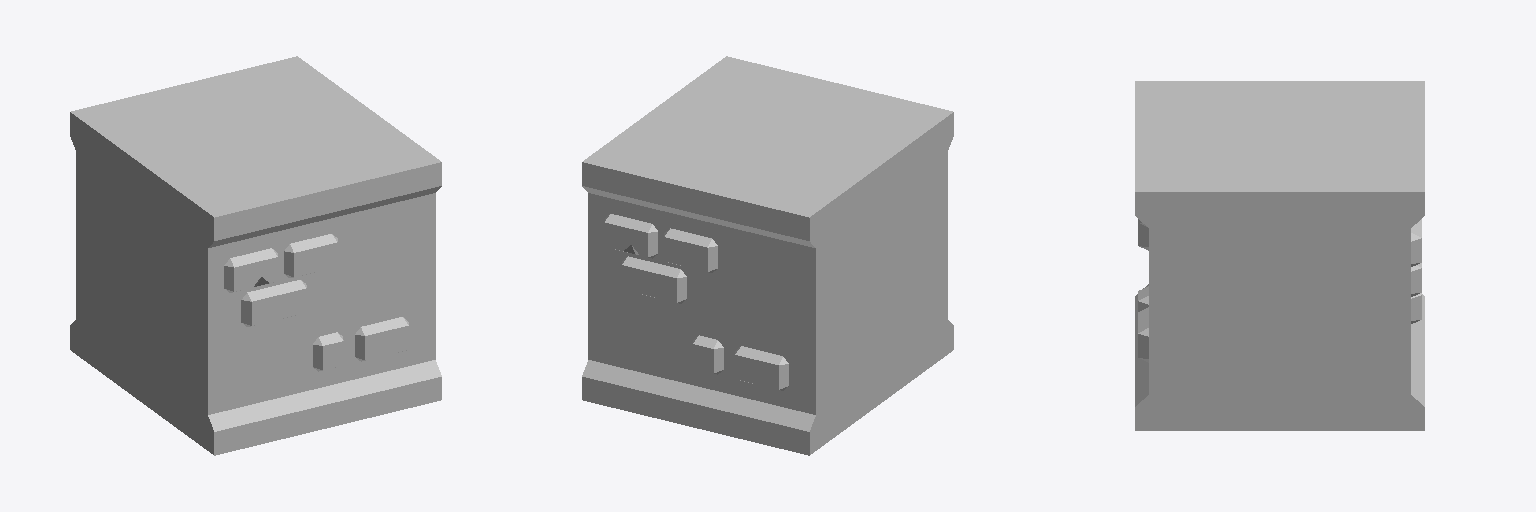
File: floor_foundation_front_and_back.obj
3 views of the same model, side by side, from view 1: azimuth 30°, elevation 25°; view 2: azimuth 150°, elevation 25°; view 3: azimuth 270°, elevation 25° (orthographic).
Parts seen in each view (by area): view 1: floor_foundation_front_and_back; view 2: floor_foundation_front_and_back; view 3: floor_foundation_front_and_back.
Part boxes in pixels (x1,y1,x2,y2): floor_foundation_front_and_back: (70,56,441,455); floor_foundation_front_and_back: (582,56,953,455); floor_foundation_front_and_back: (1135,81,1424,430).
Bounding box in the file's own units: 2 × 2 × 2.2.